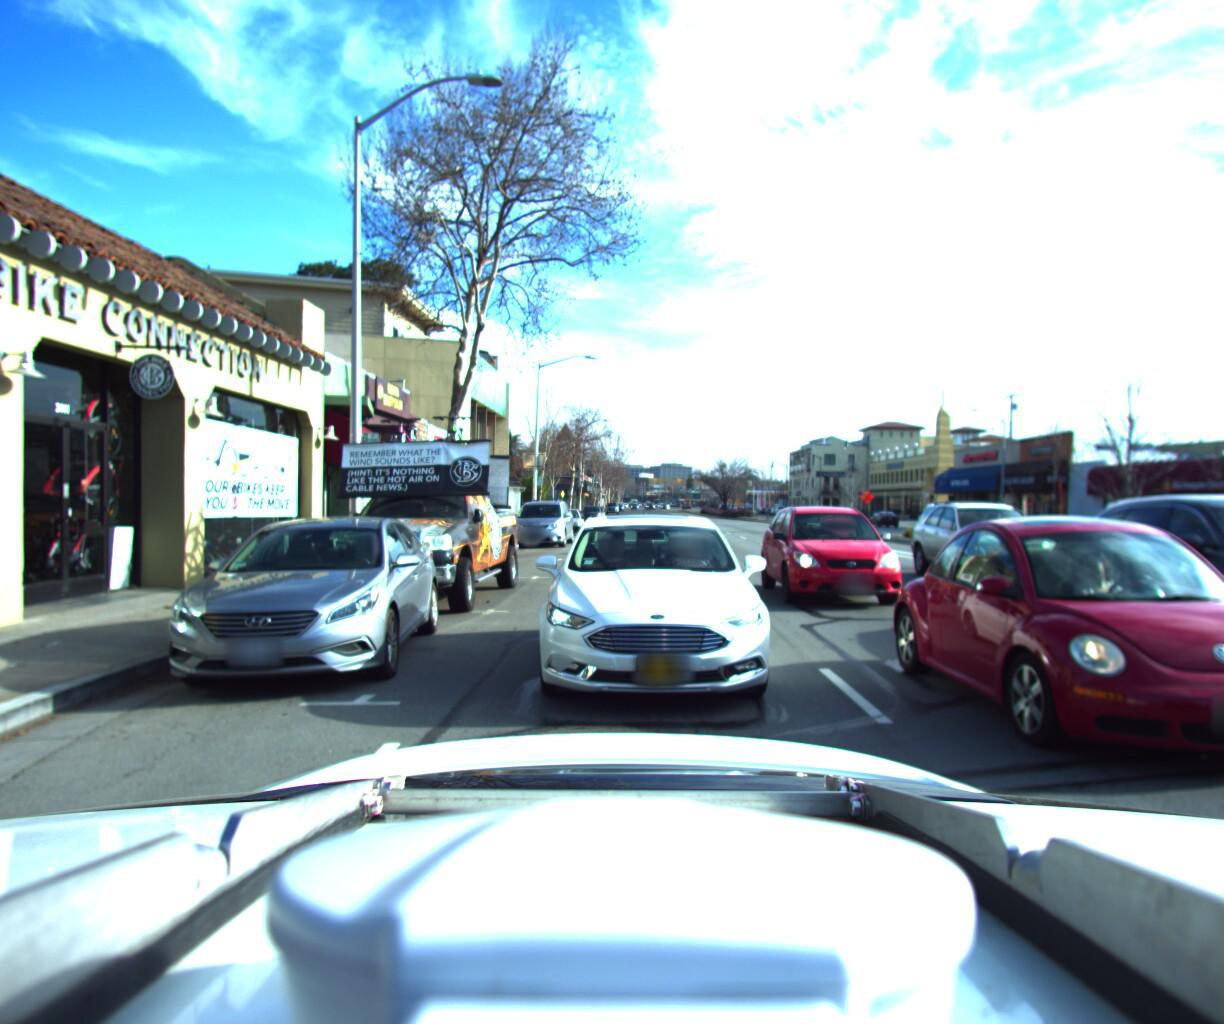car: (867, 503, 1224, 810), (134, 509, 448, 726), (521, 500, 797, 737), (272, 420, 528, 633), (1062, 476, 1224, 714), (746, 499, 921, 616), (888, 494, 1058, 589), (507, 491, 577, 550), (538, 501, 588, 535), (863, 499, 899, 521), (579, 501, 610, 522)
